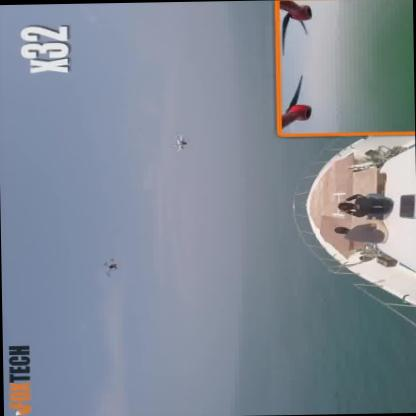drone: (172, 133, 190, 151), (102, 257, 118, 275)
